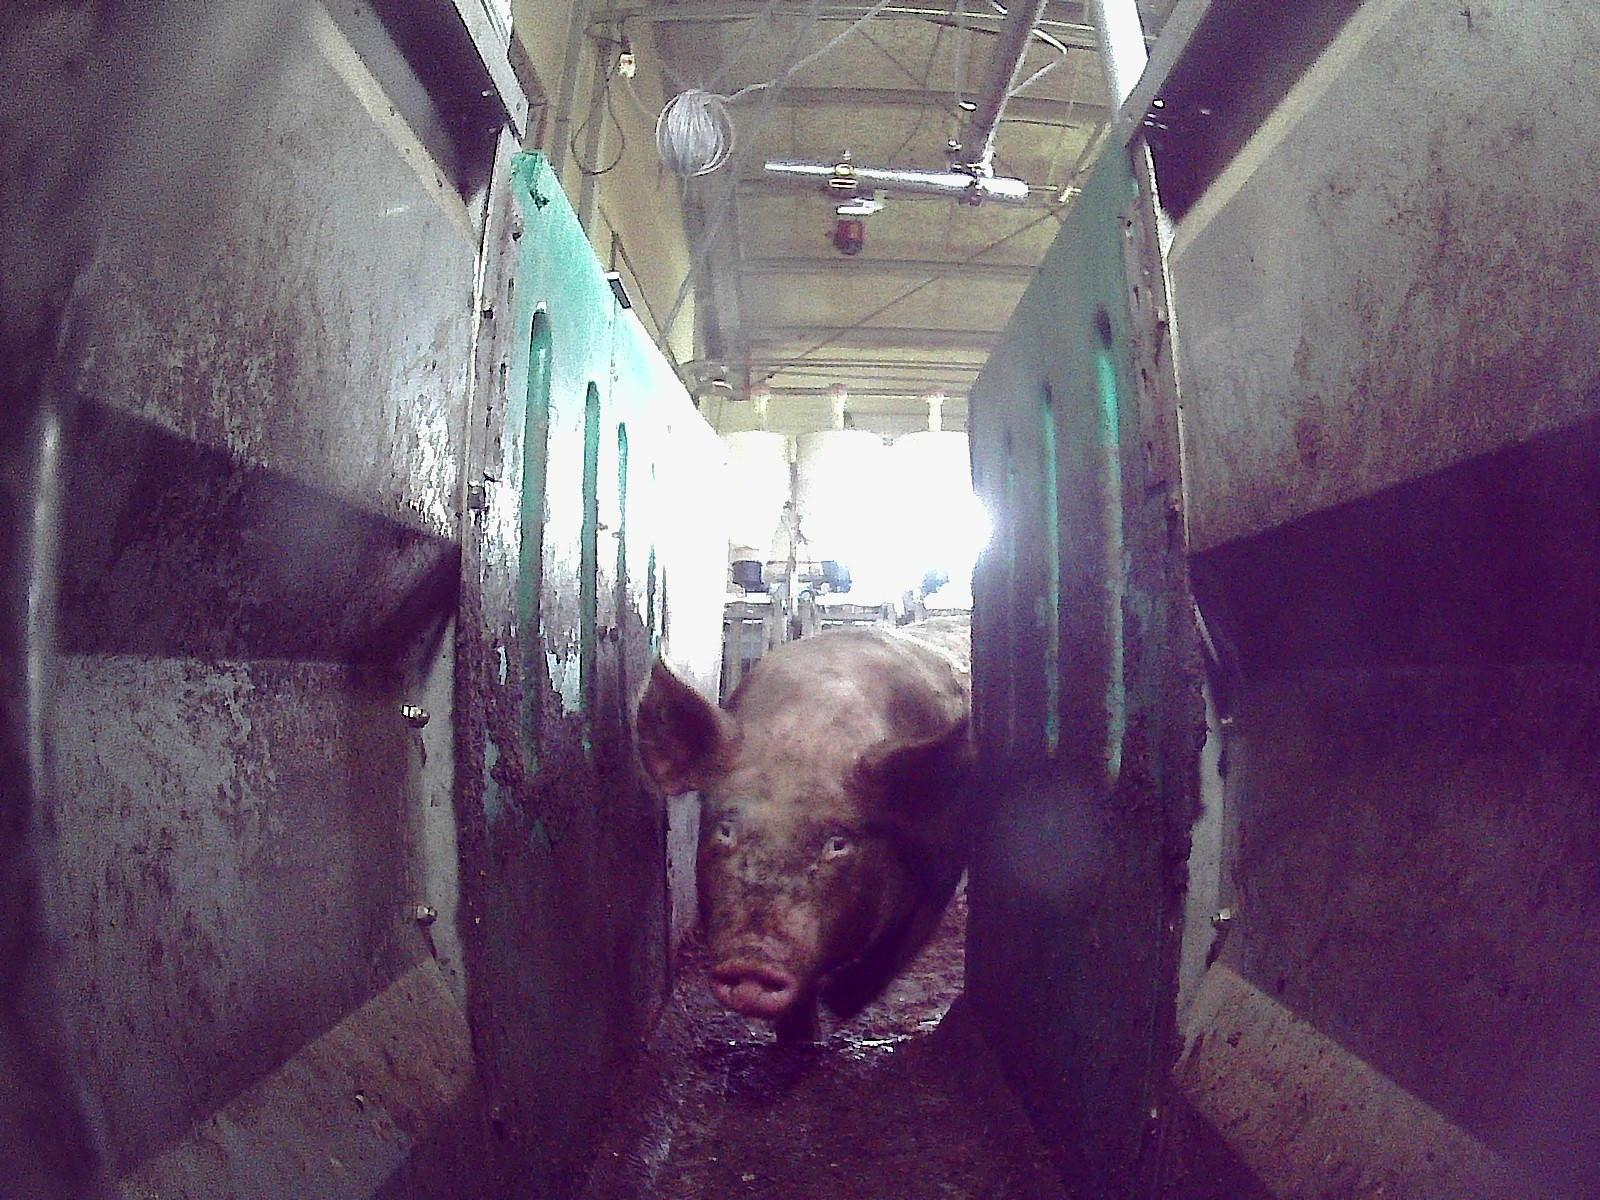Face: (699, 723, 905, 1011)
